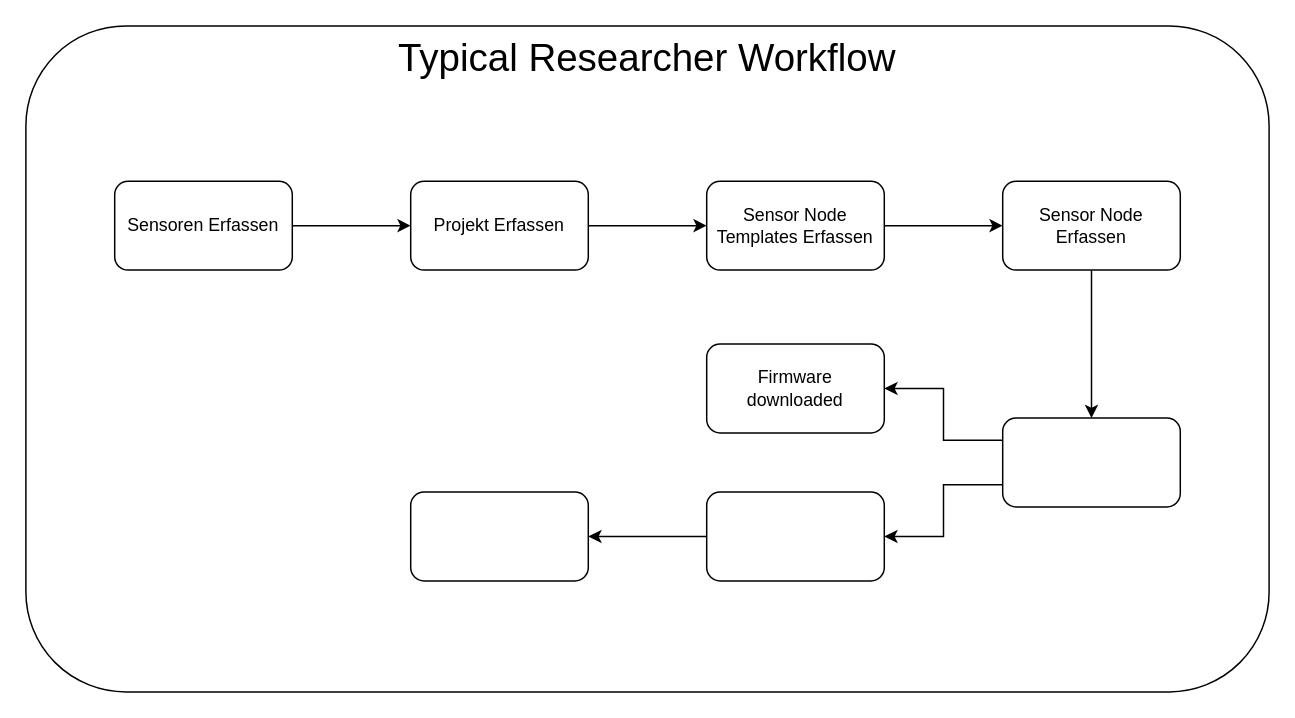
Some shapes in this 1295 by 718 pixel diagram are drawn without their labels. The shapes that lost their labels are listed below. From the top down, each one's centre as x and y in pixels, then its label:
the point at 1090,462: Firmware Generieren
the point at 498,536: HW Flashed
the point at 794,536: HW verbinden
